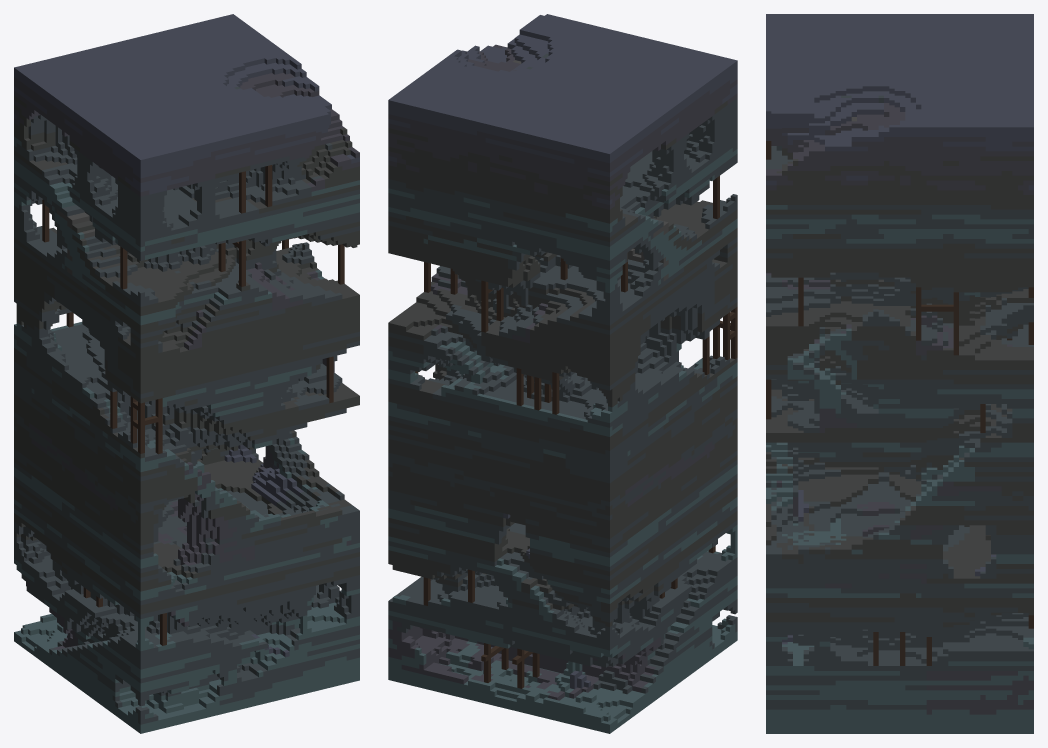
File: map_cdg_sculpted_v2-0.obj
The picture shows the model from 3 angles, left to right: view 1: azimuth 30°, elevation 25°; view 2: azimuth 150°, elevation 25°; view 3: azimuth 270°, elevation 25°; orthographic projection. The views are drawn at different scales.
Parts seen in each view (by area): view 1: map_cdg_sculpted_v2-0; view 2: map_cdg_sculpted_v2-0; view 3: map_cdg_sculpted_v2-0.
Boxes of the visible parts, left/top/right/bottom form: map_cdg_sculpted_v2-0: left=14, top=14, right=359, bottom=733; map_cdg_sculpted_v2-0: left=388, top=14, right=737, bottom=733; map_cdg_sculpted_v2-0: left=766, top=14, right=1033, bottom=733.
Bounding box in the file's own units: 50 × 125 × 50.
Materials: 1 (1 with a texture image).
